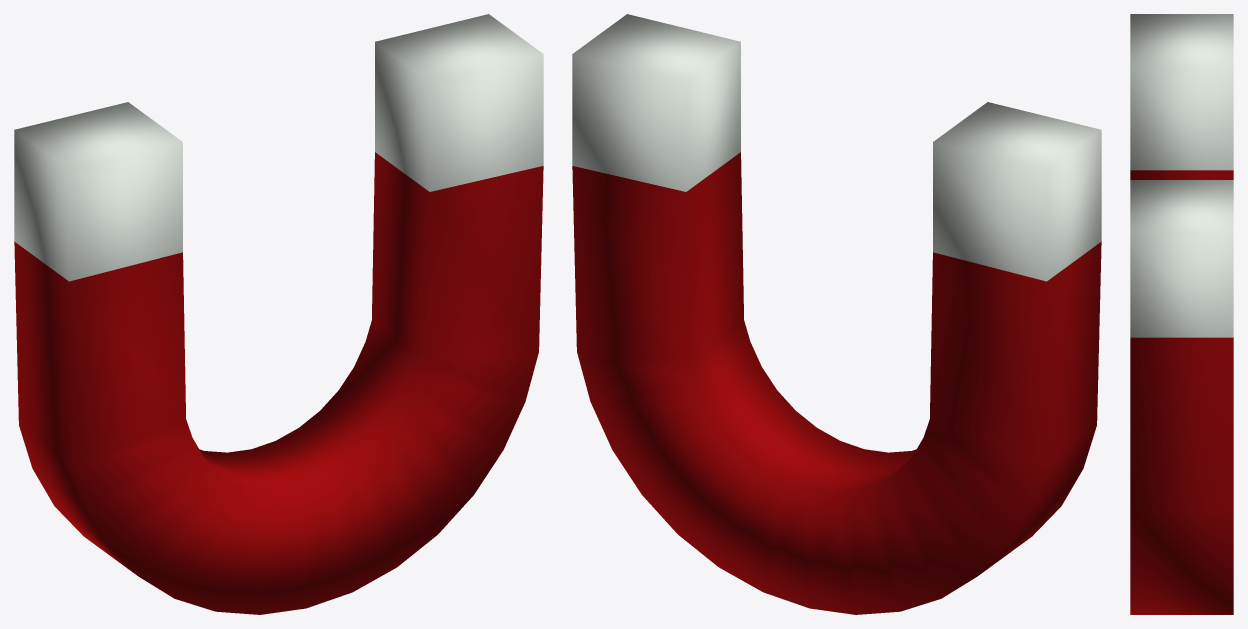
Rendered from magnet.fbx.
3 views of the same model, side by side, from view 1: azimuth 30°, elevation 25°; view 2: azimuth 150°, elevation 25°; view 3: azimuth 270°, elevation 25° (orthographic). The views are drawn at different scales.
Visible parts, largest first — view 1: Circle; view 2: Circle; view 3: Circle.
Part boxes in pixels (x1=…): Circle: x1=14, y1=14, x2=543, y2=614; Circle: x1=572, y1=14, x2=1101, y2=614; Circle: x1=1130, y1=14, x2=1233, y2=614.
Size of the model in its own units: 2 by 2 by 0.4.
